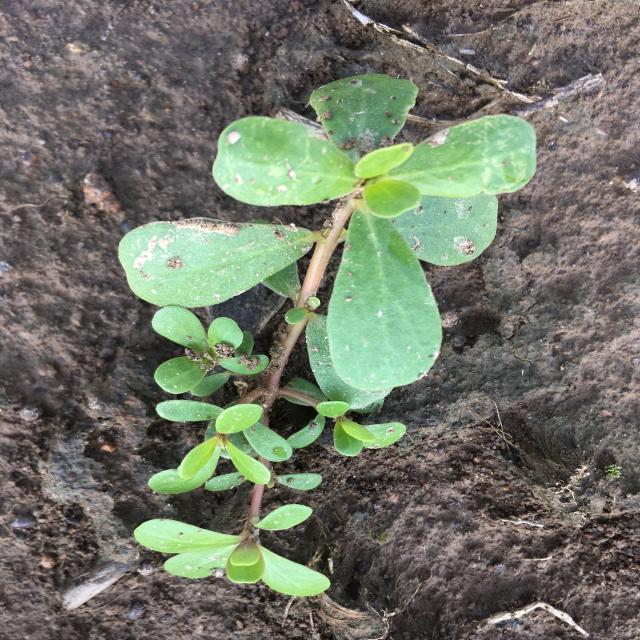Purslane: (119, 74, 536, 597)
